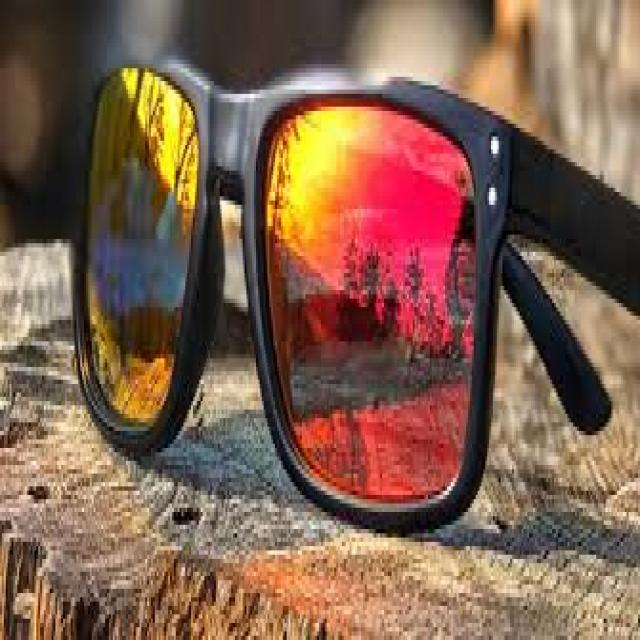suspicious-objects: (66, 28, 549, 535)
